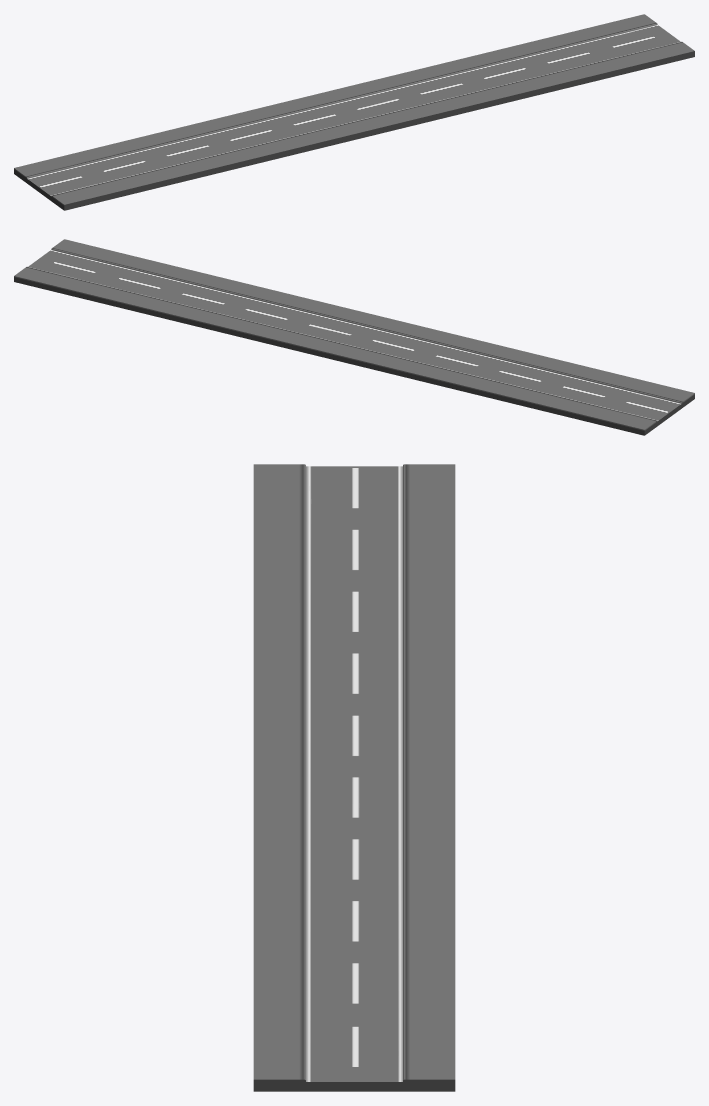
The picture shows the model from 3 angles, top to bottom: view 1: azimuth 30°, elevation 25°; view 2: azimuth 150°, elevation 25°; view 3: azimuth 270°, elevation 25°; orthographic projection. The views are drawn at different scales.
Parts seen in each view (by area): view 1: Box001; view 2: Box001; view 3: Box001.
Boxes of the visible parts, x1,y1,x2,y2 form: Box001: (14,14,694,210); Box001: (14,239,694,435); Box001: (253,464,455,1091).
Bounding box in the file's own units: 3166 × 28.65 × 438.
1 material, 1 textured.
